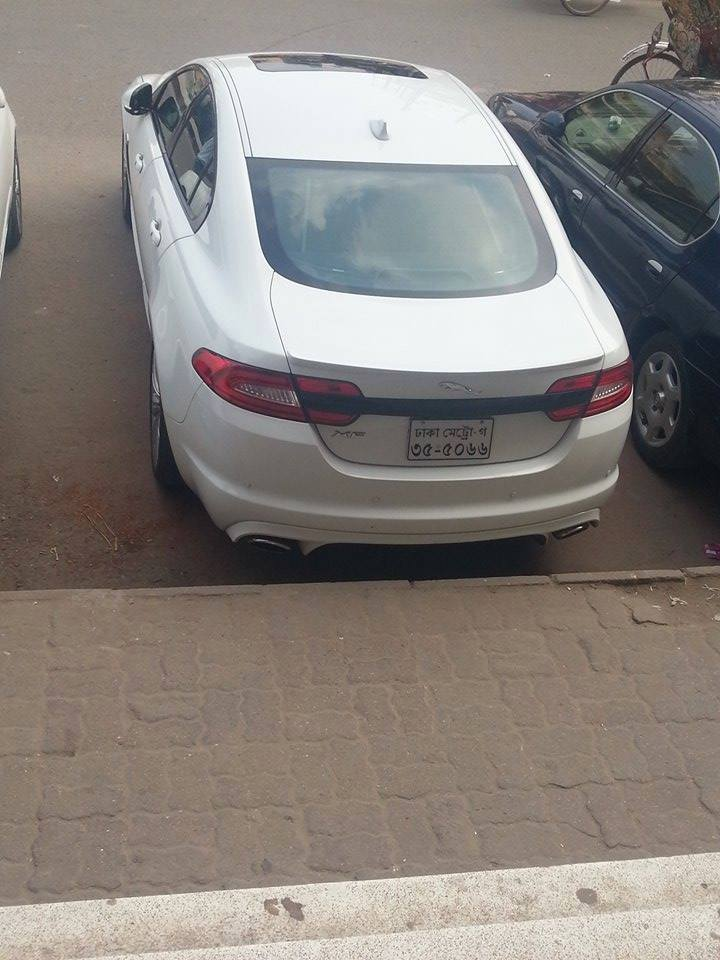registration_plate: (407, 418, 494, 460)
